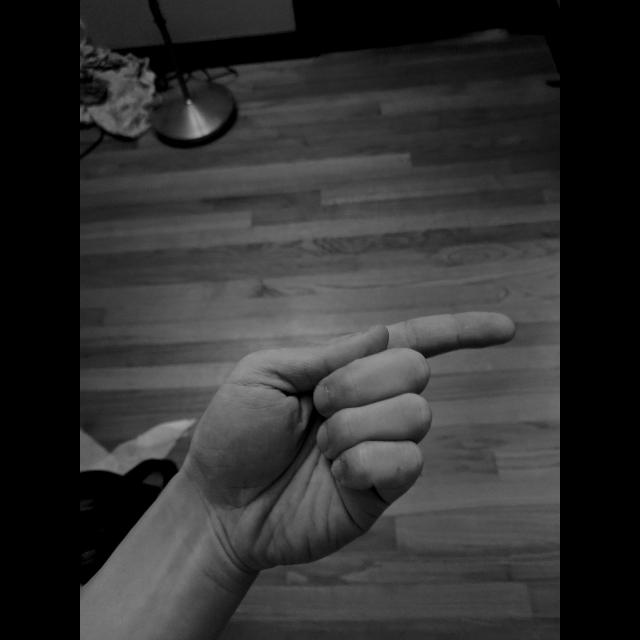G: (185, 304, 520, 574)
